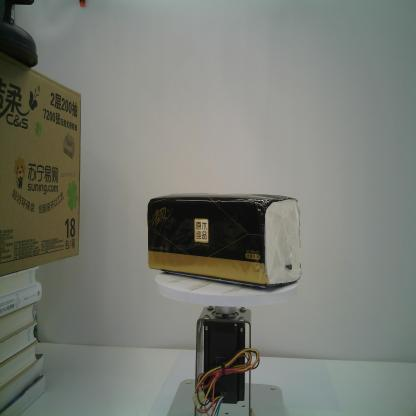Tissue: (146, 192, 303, 290)
